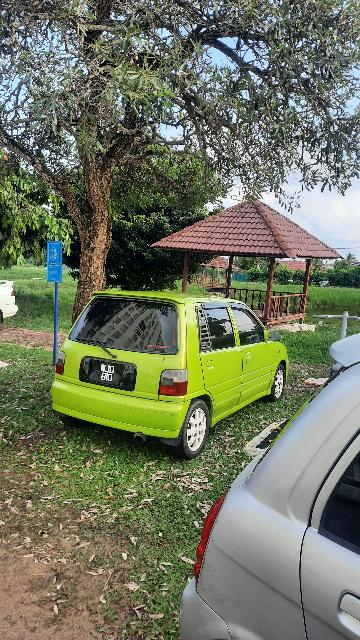License_Plate: (85, 351, 133, 389)
car: (51, 288, 290, 452)
